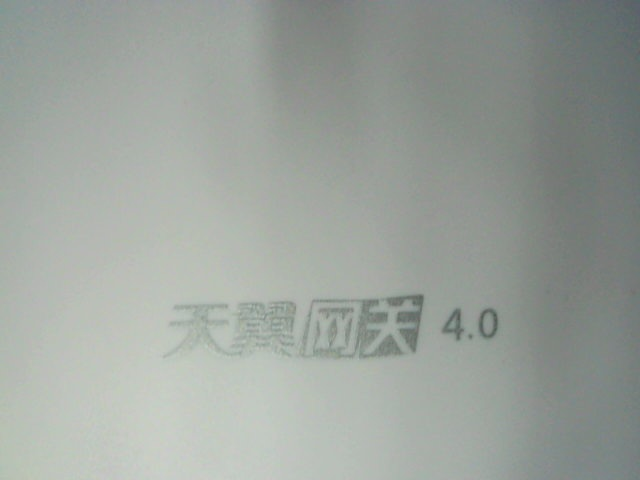BM_TianYiWangGuan: (157, 289, 506, 360)
